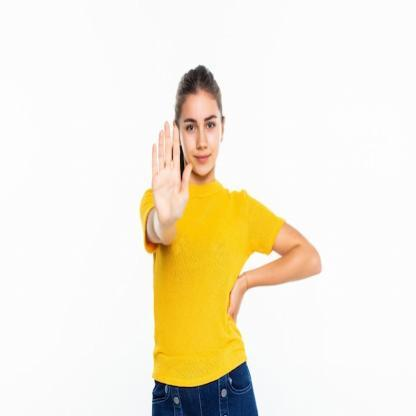stop: (146, 116, 196, 238)
